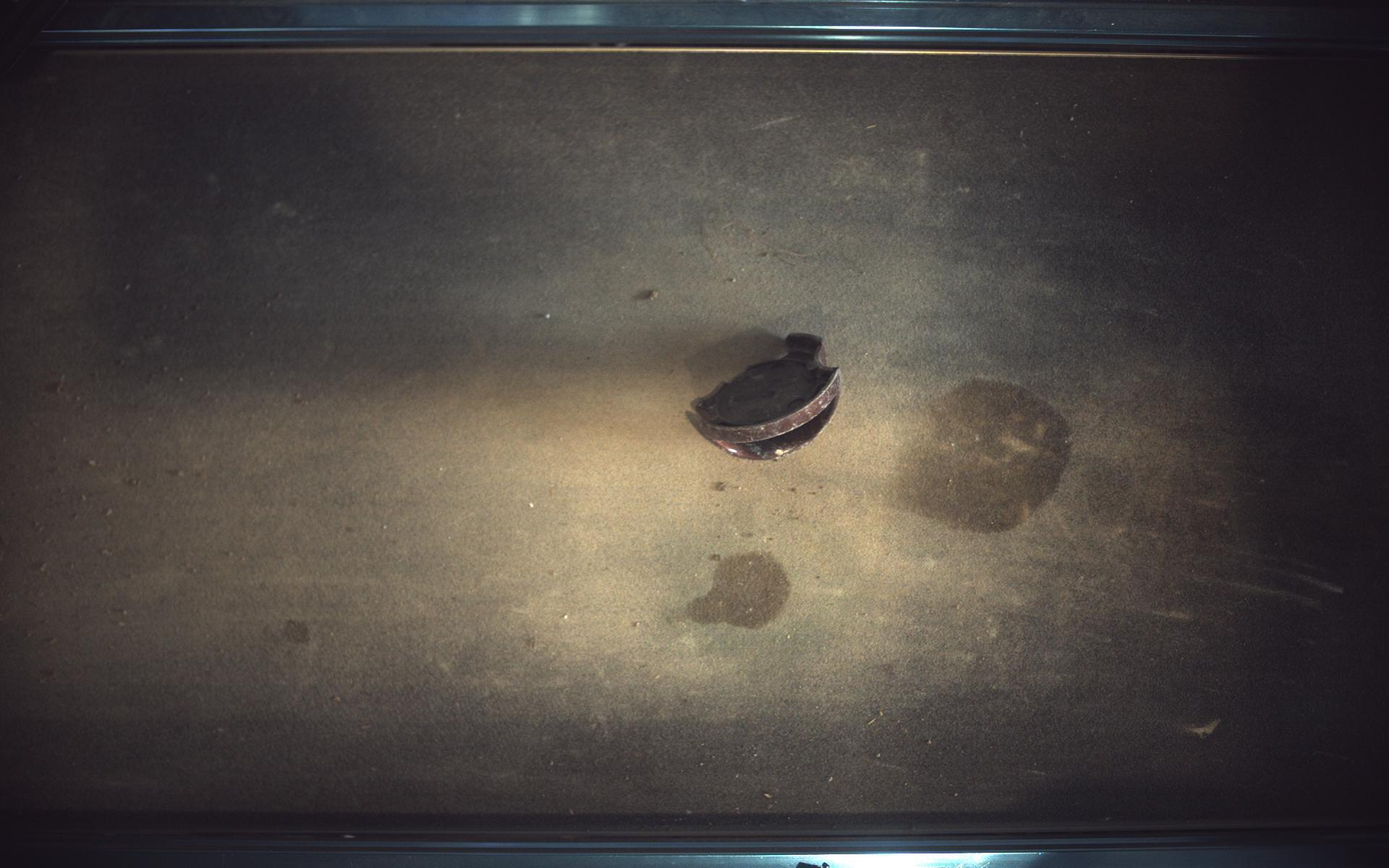general_w: (689, 333, 844, 460)
